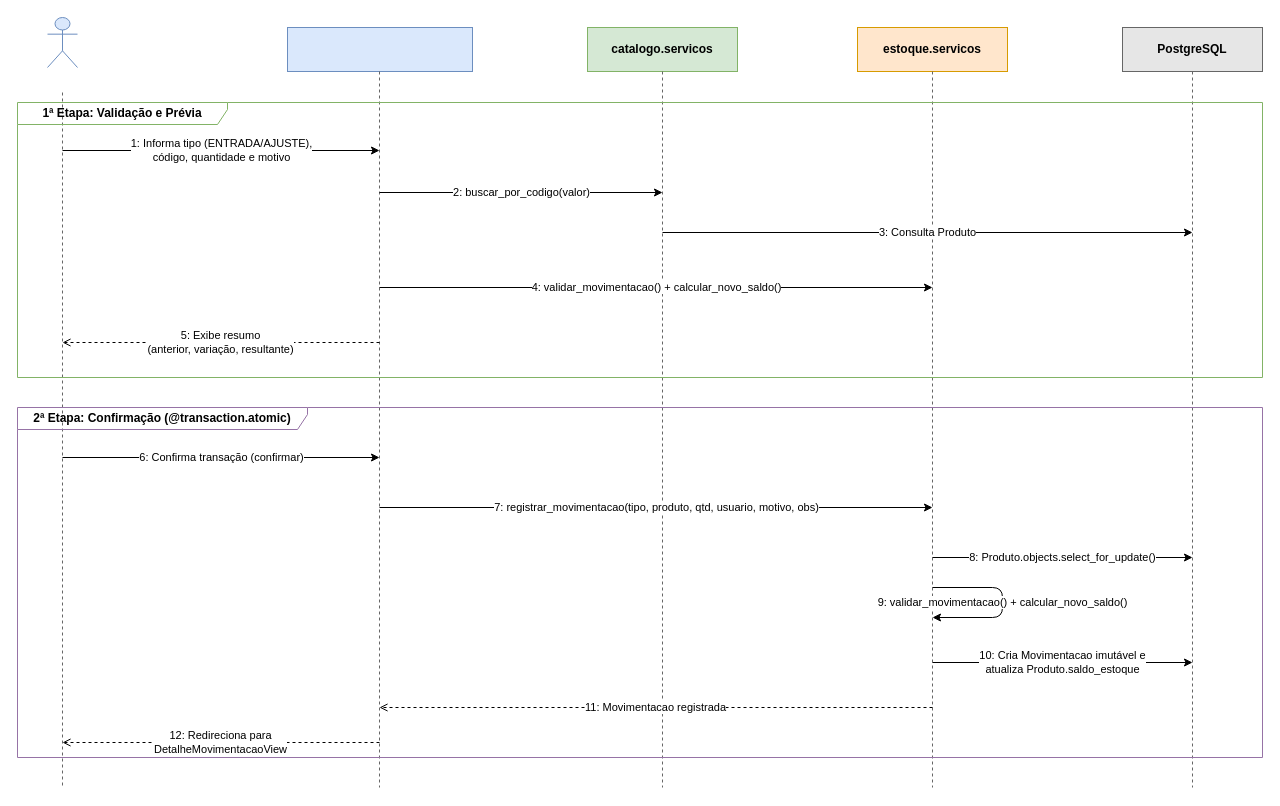
Image size: 1280x806. Some labels were removed from this diagram. Here are the shapes that lost their labels. From the top down, the box of each, then its label:
(46, 16, 78, 68): Operador
(286, 26, 472, 72): RegistrarMovimentacaoView
